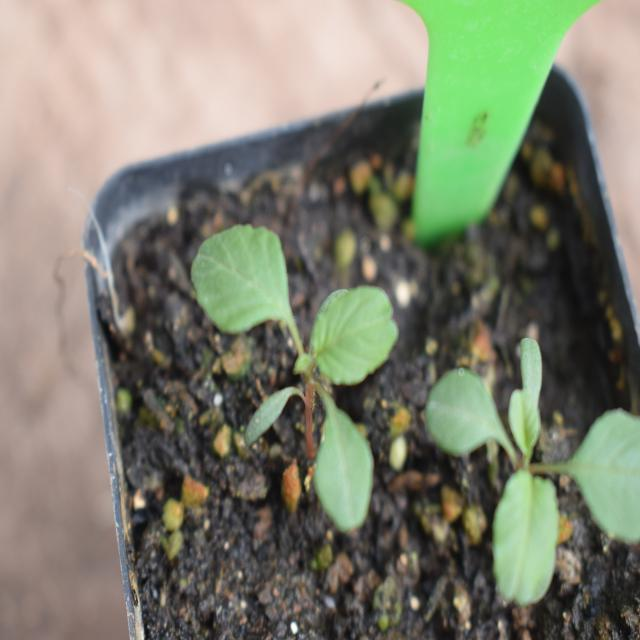pigweed: (180, 217, 412, 514)
